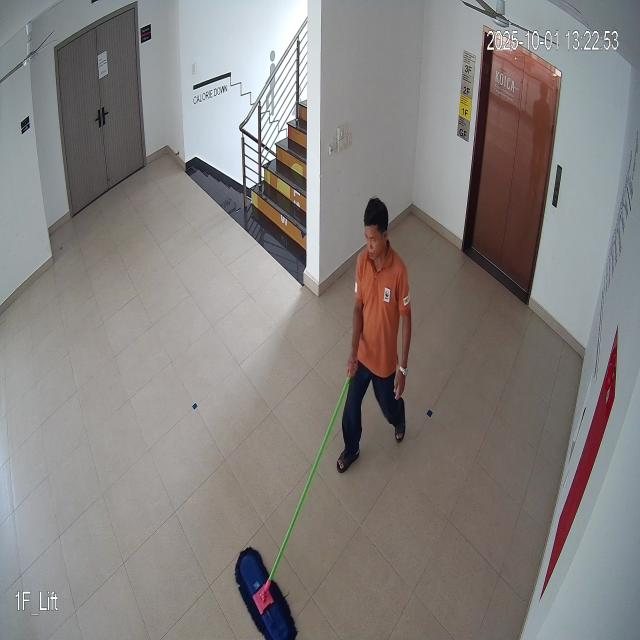face: (358, 186, 394, 269)
